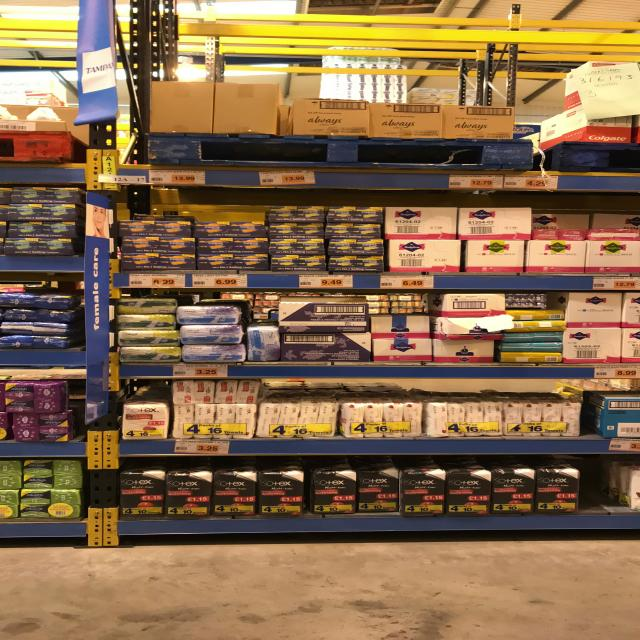empty: (581, 458, 620, 522)
